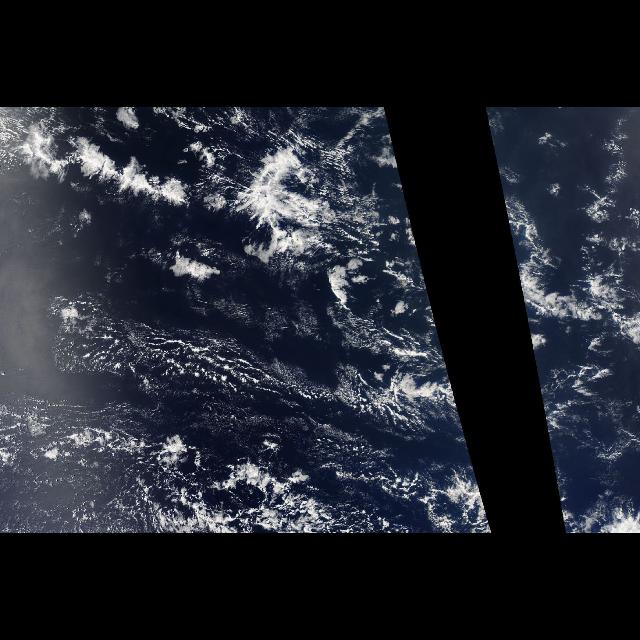Fish: (39, 294, 454, 470)
Gravel: (8, 398, 382, 534)
